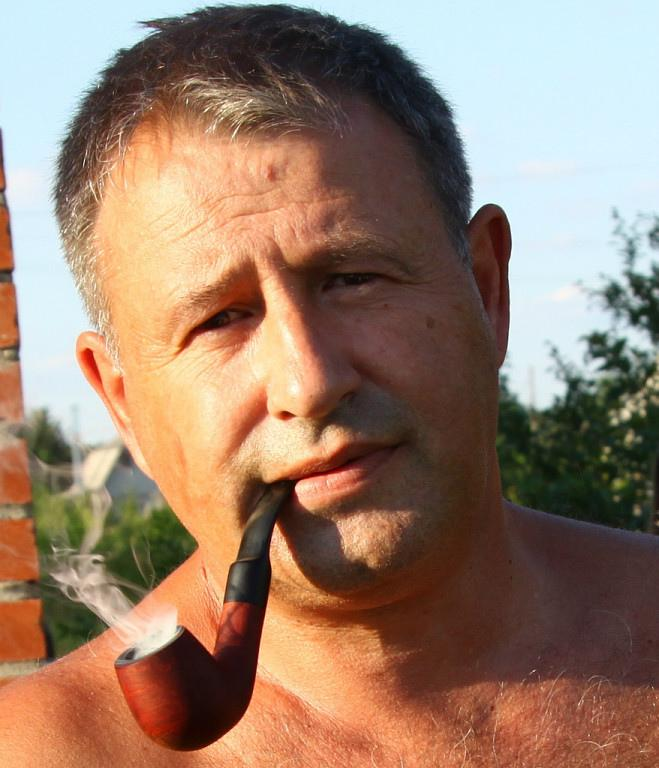trubka: (114, 481, 287, 750)
